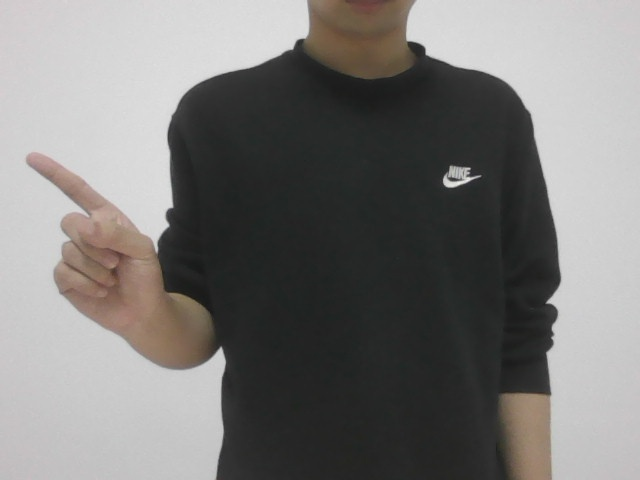what: (28, 148, 166, 344)
